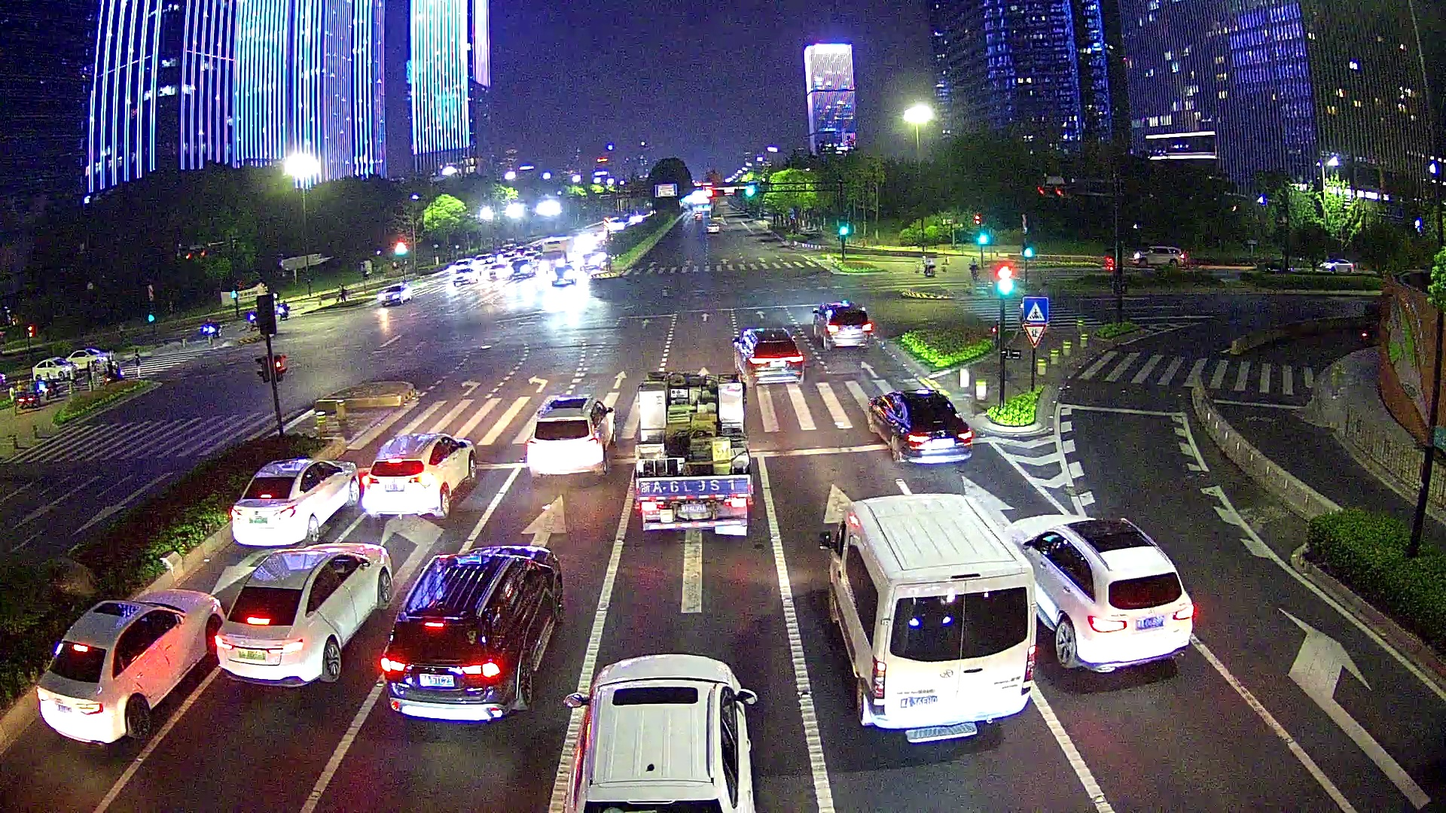vehicle: (815, 490, 1039, 741), (377, 543, 565, 726), (560, 653, 760, 811), (1008, 510, 1195, 675), (32, 584, 217, 745), (214, 543, 395, 692), (631, 366, 755, 537), (227, 453, 359, 546), (359, 425, 477, 520), (521, 391, 621, 482), (864, 387, 977, 467), (728, 324, 809, 387), (809, 299, 877, 352)
